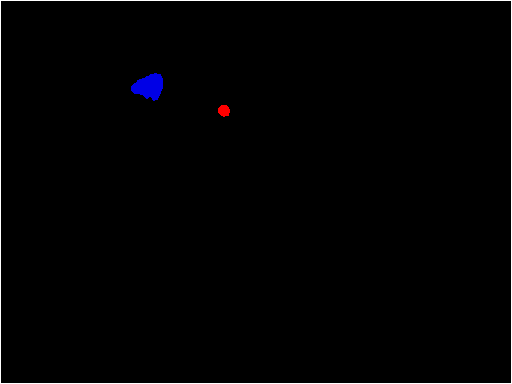chipped: (138, 74, 162, 95)
detached: (215, 104, 230, 116)
